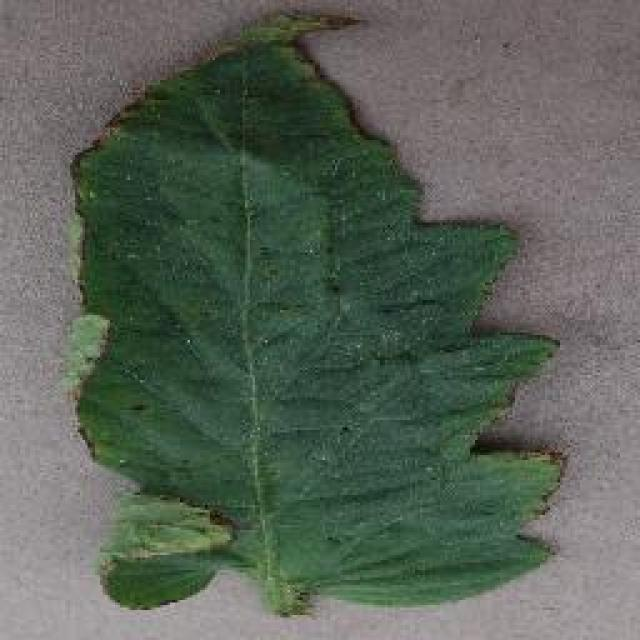Tomato bacterial spot leaf: (65, 10, 570, 615)
